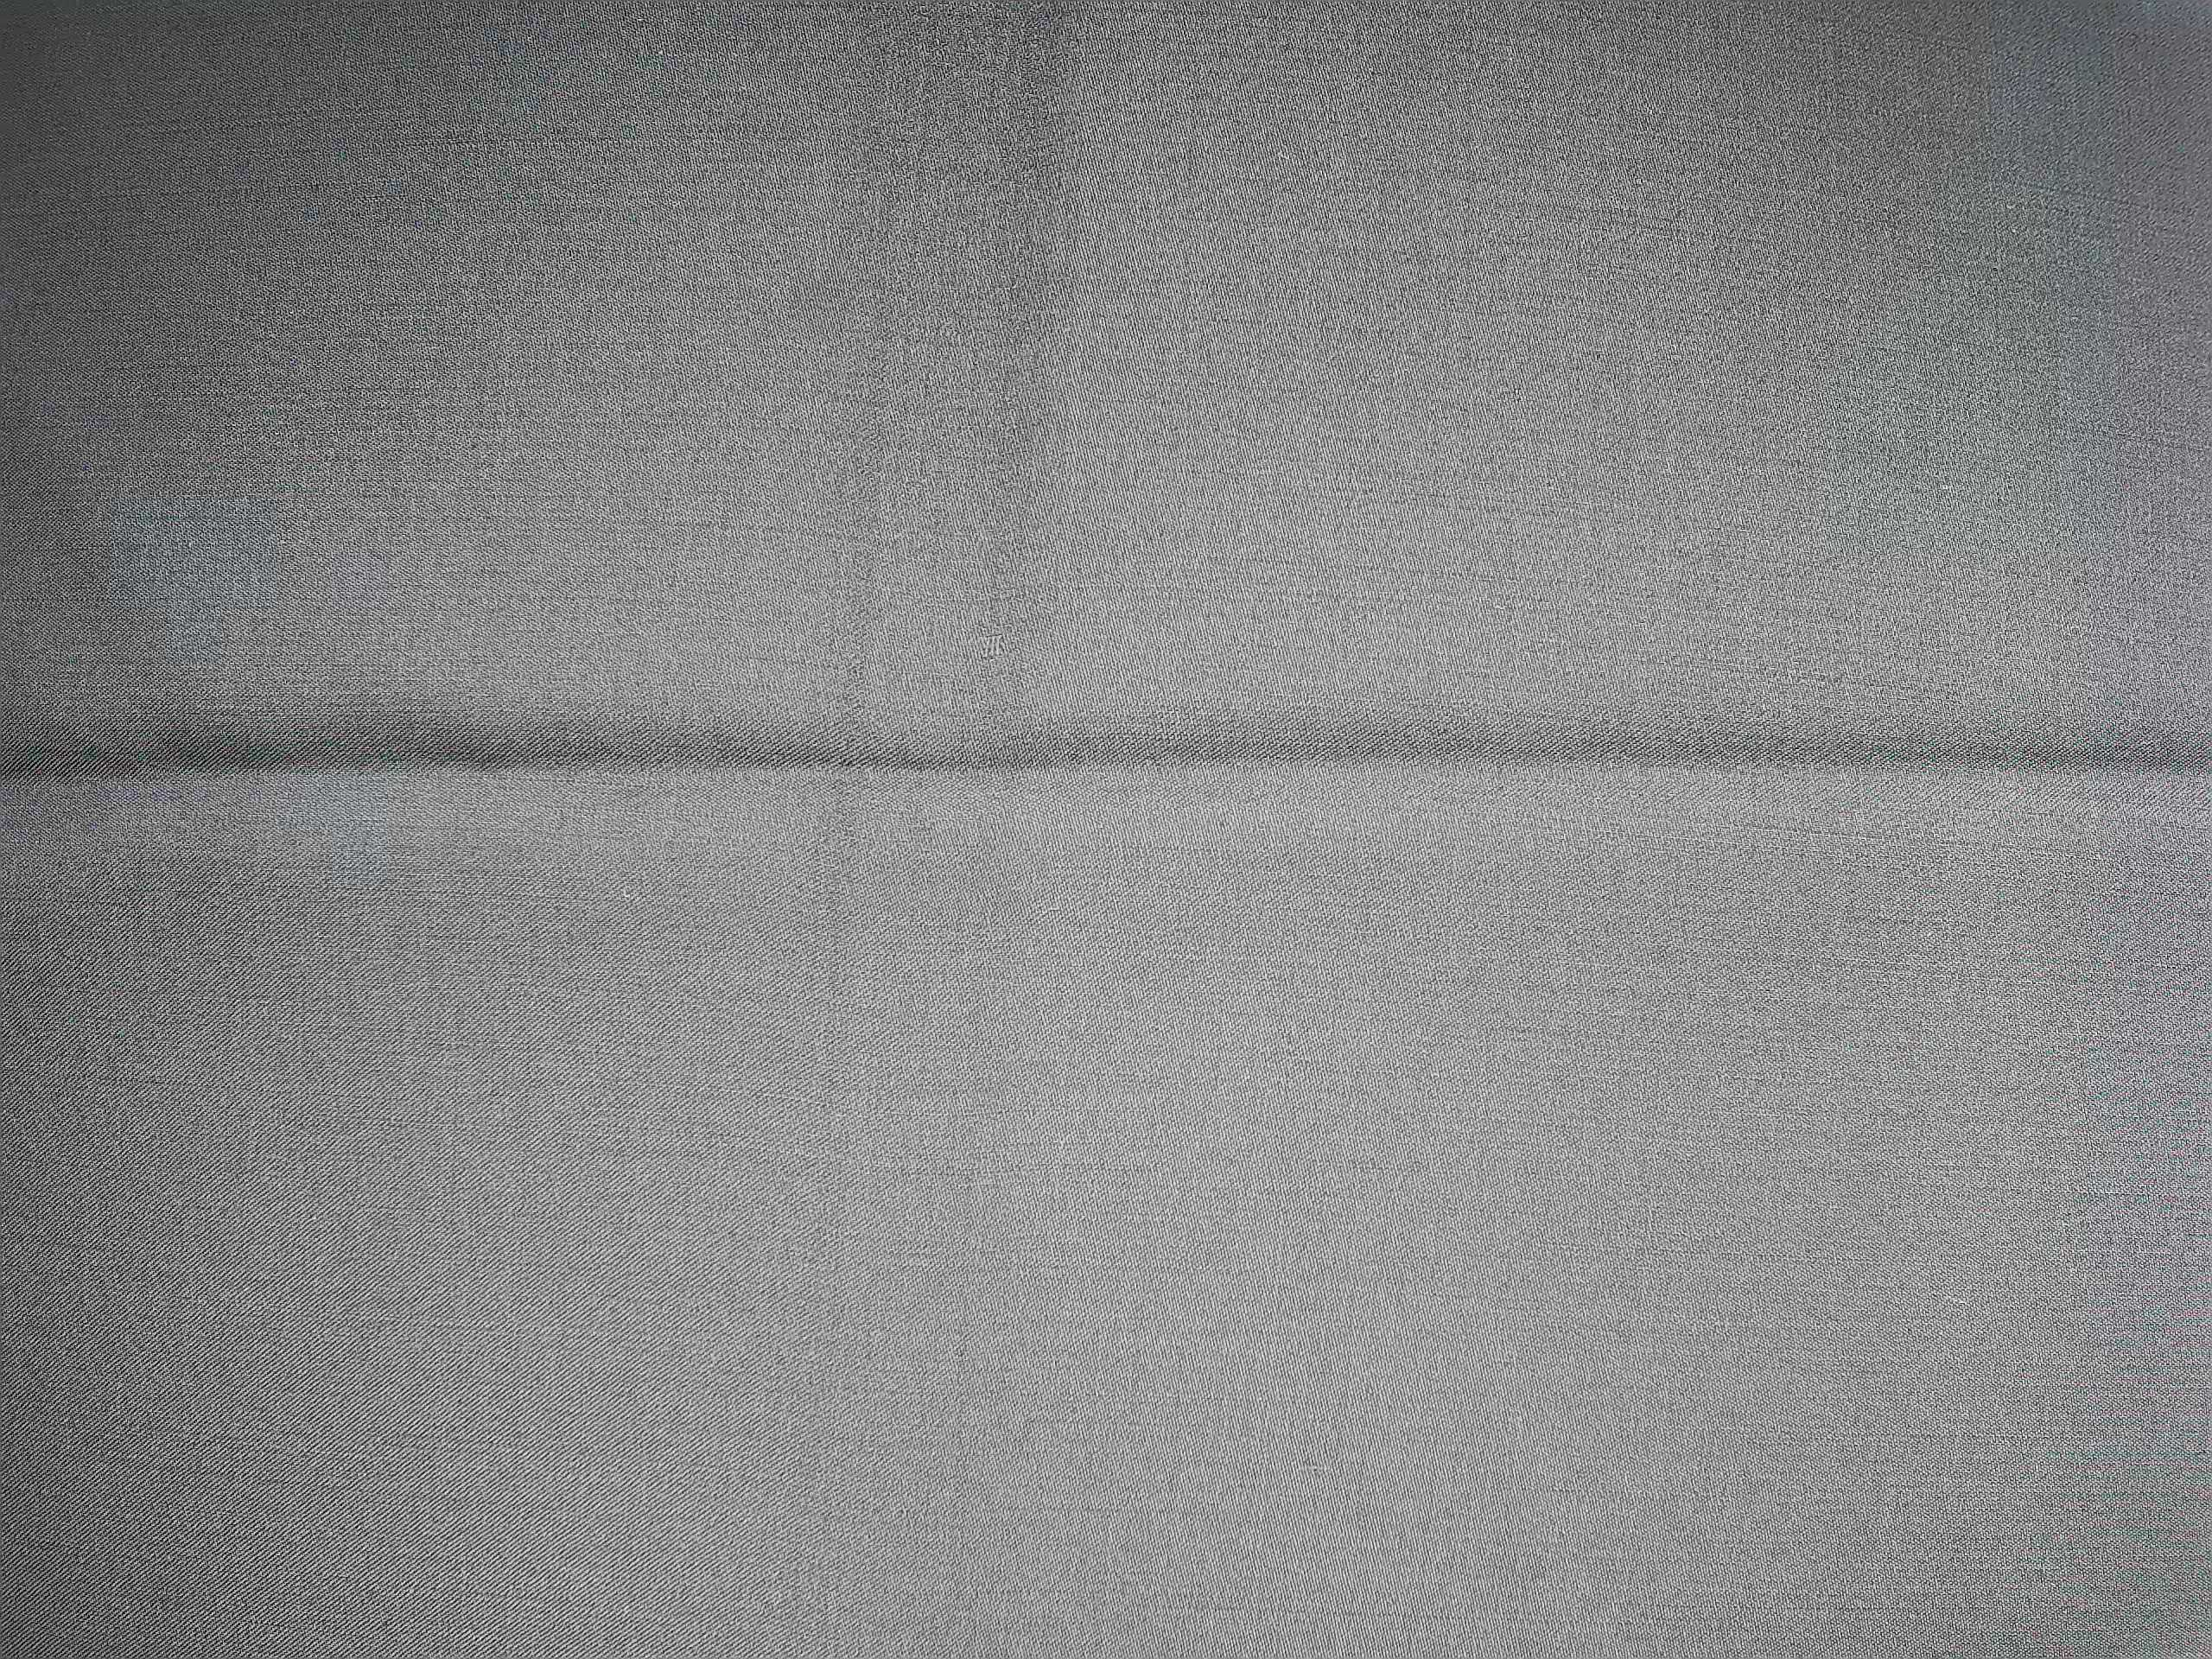jumps: (969, 626, 1018, 667)
